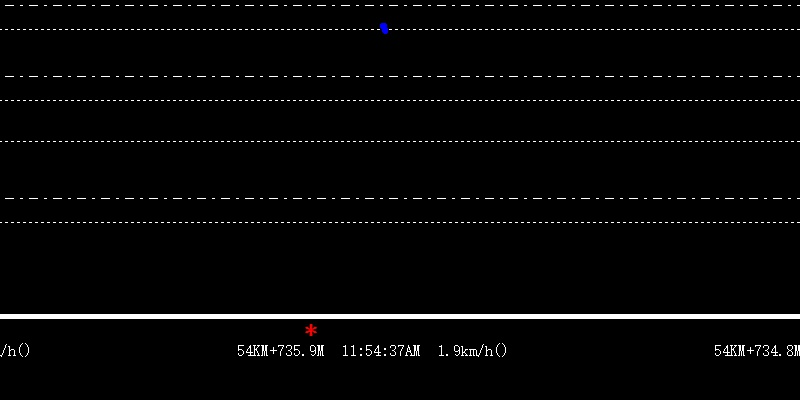face_1: (376, 21, 391, 35)
star: (301, 320, 319, 337)
